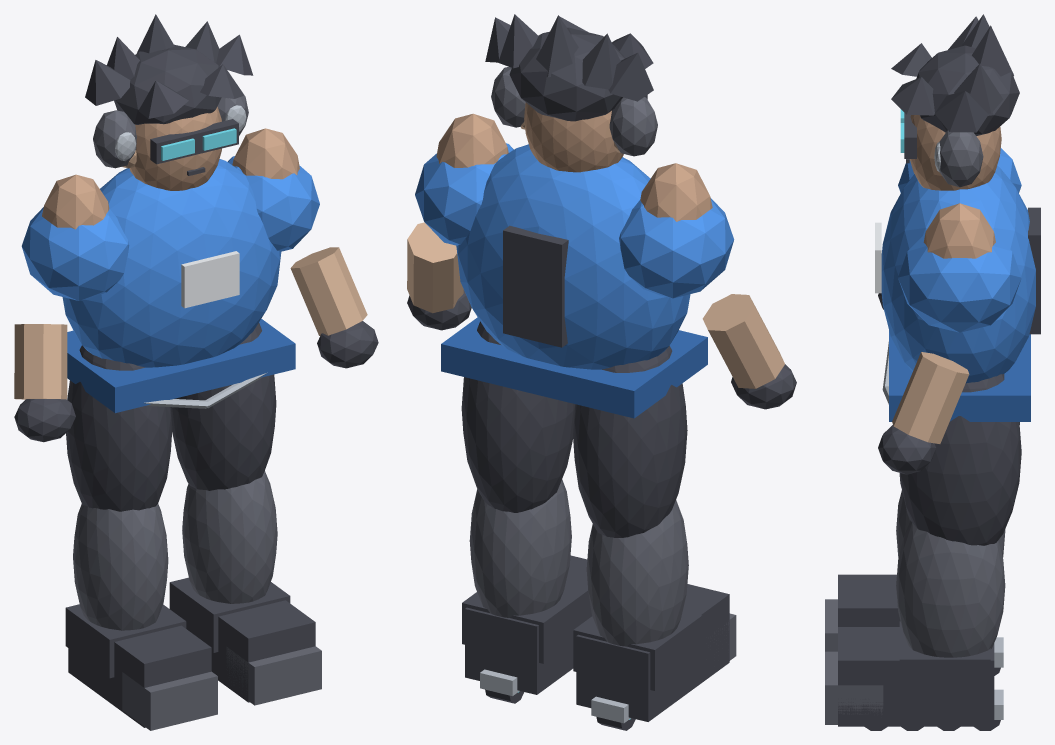
Rendered from blue_punk_skater_2027.glb.
3 views of the same model, side by side, from view 1: azimuth 30°, elevation 25°; view 2: azimuth 150°, elevation 25°; view 3: azimuth 270°, elevation 25° (orthographic). The views are drawn at different scales.
Visible parts, largest first — view 1: Shirt_Torso, Pants_Thigh_L, Pants_Lower_L, Pants_Lower_R, Pants_Thigh_R, Shirt_Hem, Shirt_Sleeve_L, Skate_Boot_L, Skate_Boot_R, Hair_Cap, Arm_Forearm_R, Skate_Toe_L (+20 smaller); view 2: Shirt_Torso, Pants_Thigh_L, Pants_Thigh_R, Shirt_Hem, Pants_Lower_L, Pants_Lower_R, Skate_Boot_L, Shirt_Sleeve_L, Back_Sling, Skate_Boot_R, Hair_Cap, Arm_Forearm_L (+19 smaller); view 3: Shirt_Torso, Pants_Thigh_R, Pants_Lower_R, Skate_Boot_R, Shirt_Sleeve_R, Arm_Forearm_R, Shirt_Hem, Pants_Cuff_R, Hair_Cap, Skate_Boot_L, Arm_Upper_R, Head (+15 smaller).
Boxes of the visible parts, x1,y1,x2,y2 form: Shirt_Torso: (62,159,281,367); Pants_Thigh_L: (66,345,172,511); Pants_Lower_L: (73,503,168,630); Pants_Lower_R: (182,471,277,603); Pants_Thigh_R: (170,323,276,490); Shirt_Hem: (67,319,295,413); Shirt_Sleeve_L: (21,207,129,300); Skate_Boot_L: (68,625,211,727); Skate_Boot_R: (211,600,315,702); Hair_Cap: (114,44,221,124); Arm_Forearm_R: (290,247,367,335); Skate_Toe_L: (122,671,217,730); Shirt_Torso: (456,144,690,369); Pants_Thigh_L: (573,346,687,537); Pants_Thigh_R: (461,321,575,512); Shirt_Hem: (441,317,707,418); Pants_Lower_L: (586,500,688,646); Pants_Lower_R: (469,479,571,617); Skate_Boot_L: (576,584,729,721); Shirt_Sleeve_L: (619,198,734,298); Back_Sling: (503,225,568,347); Skate_Boot_R: (465,555,591,694); Hair_Cap: (509,27,624,121); Arm_Forearm_L: (702,294,784,388); Shirt_Torso: (881,166,1035,383); Pants_Thigh_R: (899,374,1021,545); Pants_Lower_R: (896,520,1005,657); Skate_Boot_R: (838,627,994,726); Shirt_Sleeve_R: (898,234,1021,332); Arm_Forearm_R: (892,352,969,443); Shirt_Hem: (889,330,1030,421); Pants_Cuff_R: (899,621,990,699); Hair_Cap: (916,45,1019,135); Skate_Boot_L: (838,574,899,626); Arm_Upper_R: (923,203,995,258); Head: (909,115,1001,190).
Size of the model in its own units: 1.03 by 1.8 by 0.5224.
